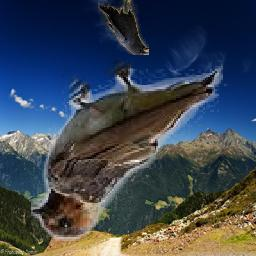Crow: (99, 0, 150, 55)
Swallow: (31, 60, 223, 242)
